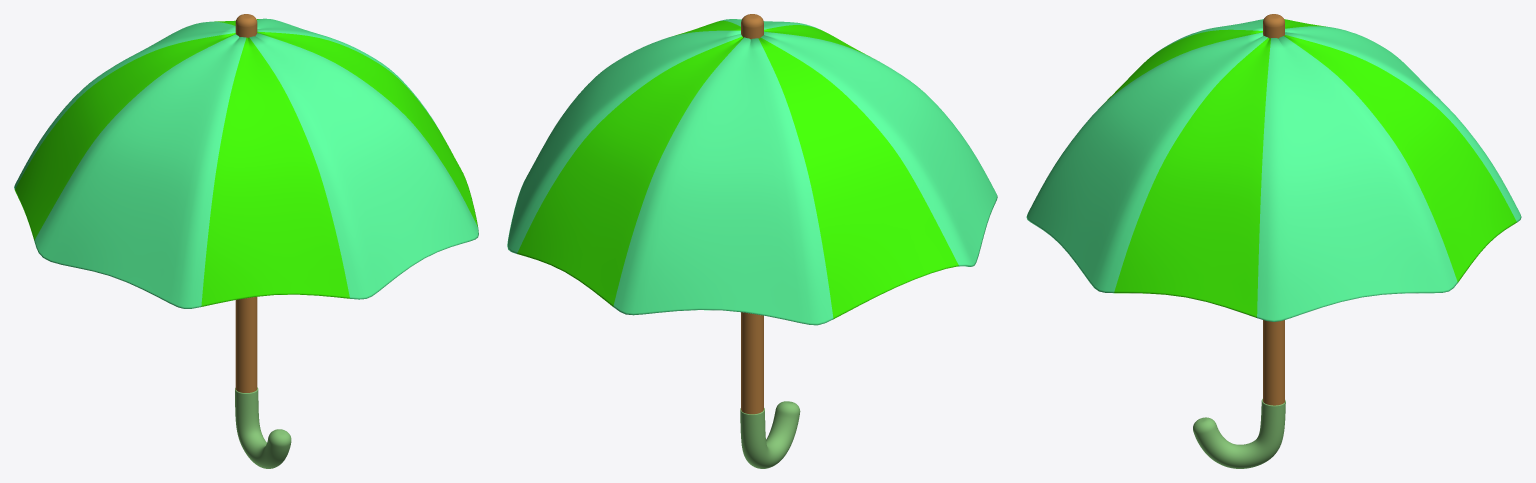
Rendered from umbrella.glb.
The picture shows the model from 3 angles, left to right: view 1: azimuth 30°, elevation 25°; view 2: azimuth 150°, elevation 25°; view 3: azimuth 270°, elevation 25°; orthographic projection. The views are drawn at different scales.
Parts seen in each view (by area): view 1: Umbrella Hat, Umbrella Stem, Umbrella Handle; view 2: Umbrella Hat, Umbrella Stem, Umbrella Handle; view 3: Umbrella Hat, Umbrella Handle, Umbrella Stem.
Boxes of the visible parts, x1,y1,x2,y2 form: Umbrella Hat: (14,18,478,308); Umbrella Stem: (235,14,257,392); Umbrella Handle: (235,387,291,468); Umbrella Hat: (507,19,997,325); Umbrella Stem: (741,14,763,414); Umbrella Handle: (740,401,800,468); Umbrella Hat: (1026,19,1521,321); Umbrella Handle: (1193,399,1285,468); Umbrella Stem: (1263,14,1284,405).
Size of the model in its own units: 2.17 by 2.19 by 2.17.
